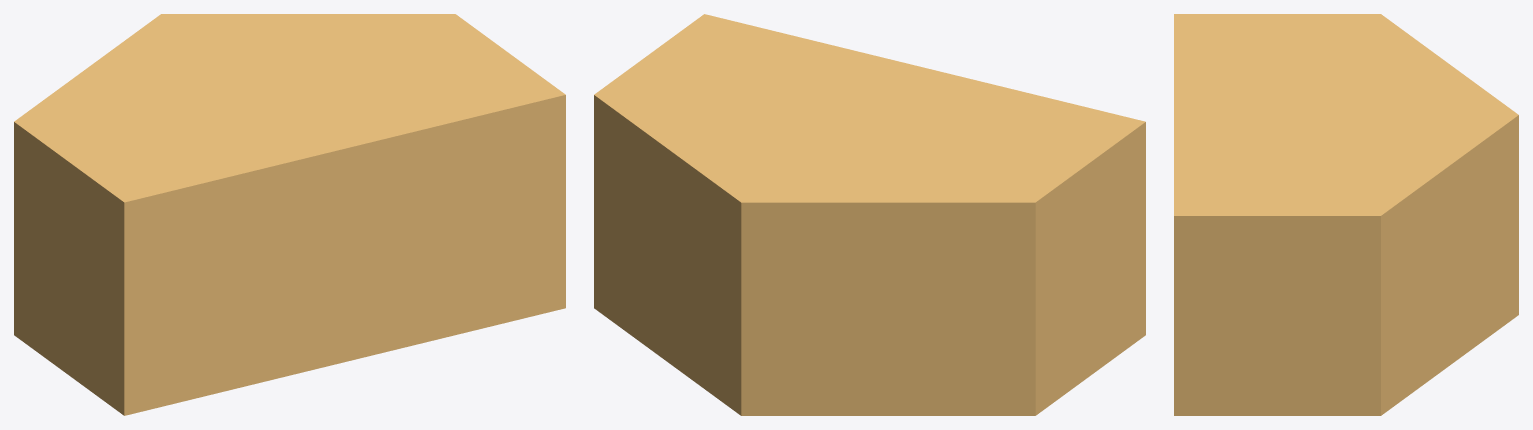
3 views of the same model, side by side, from view 1: azimuth 30°, elevation 25°; view 2: azimuth 150°, elevation 25°; view 3: azimuth 270°, elevation 25° (orthographic). The views are drawn at different scales.
Parts seen in each view (by area): view 1: WoodenWallHalfFillTall; view 2: WoodenWallHalfFillTall; view 3: WoodenWallHalfFillTall.
Boxes of the visible parts, <box> form: WoodenWallHalfFillTall: <box>14,14,565,415</box>; WoodenWallHalfFillTall: <box>594,14,1145,415</box>; WoodenWallHalfFillTall: <box>1174,14,1518,415</box>.
Bounding box in the file's own units: 1.73 × 0.8 × 1.25.
Materials: 1 (1 with a texture image).
